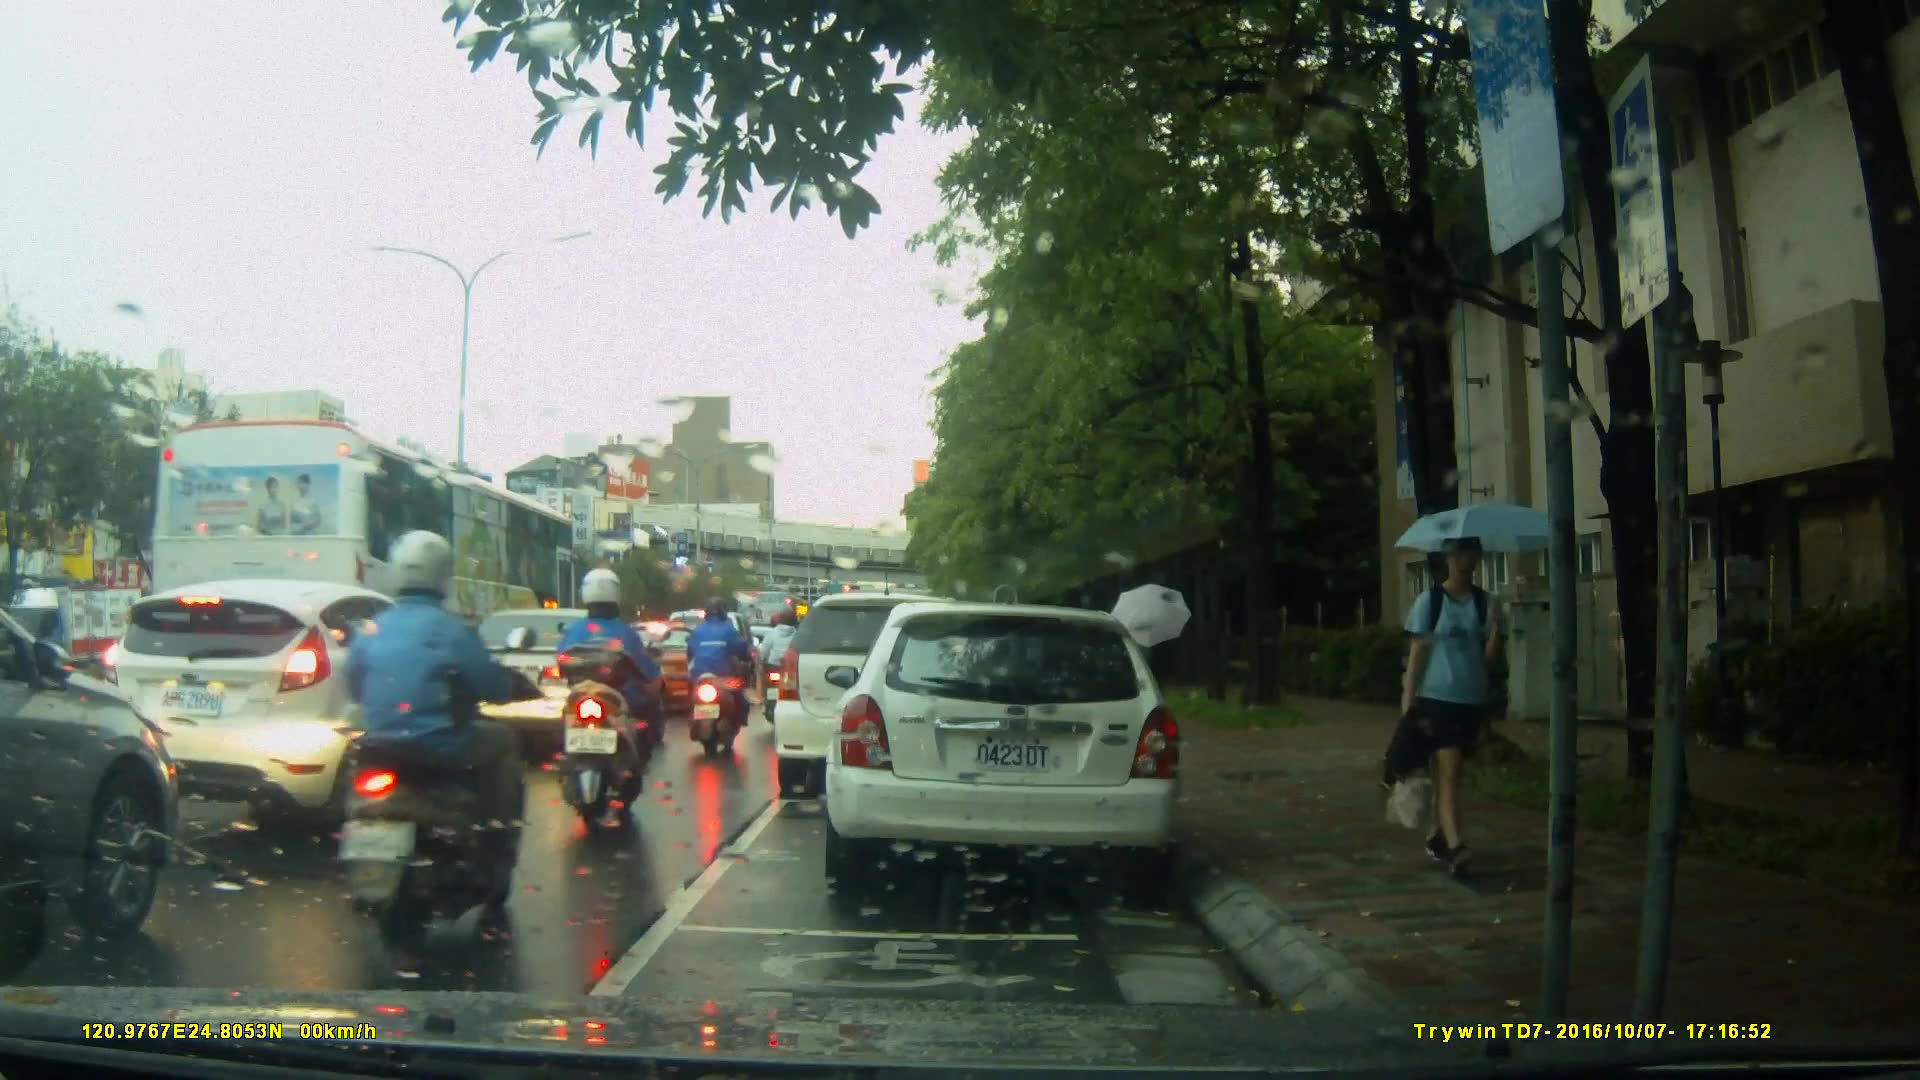pedestrian: (1374, 522, 1530, 882)
rider: (314, 525, 534, 965), (552, 571, 678, 829), (677, 599, 747, 764), (767, 600, 817, 734)
vehicle: (148, 414, 587, 722), (835, 594, 1194, 898), (99, 576, 487, 846), (776, 590, 1026, 784), (427, 605, 668, 748), (1, 586, 155, 697), (608, 619, 715, 712)
